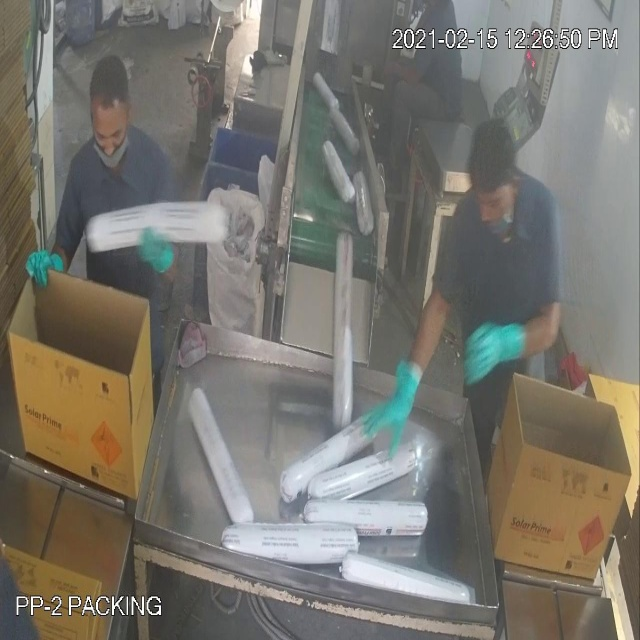Guantes: (351, 354, 442, 453), (458, 315, 520, 404), (14, 236, 79, 310), (134, 227, 178, 290)
Sin_guantes: (380, 49, 436, 101)
